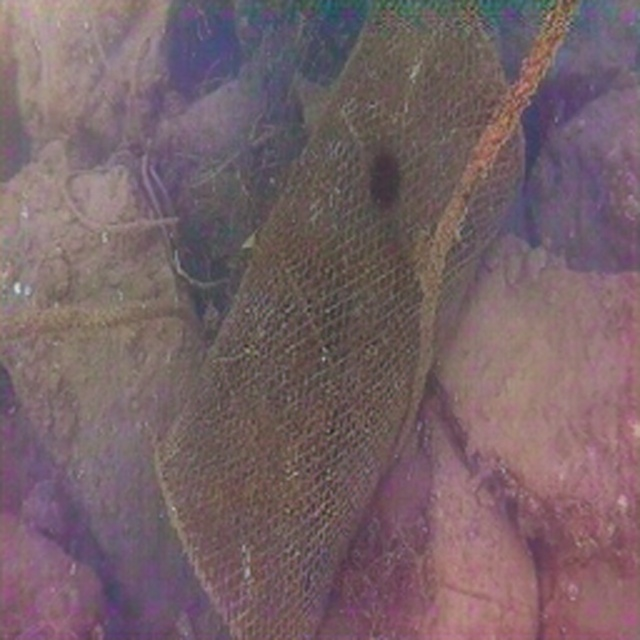mine: (151, 2, 526, 639)
